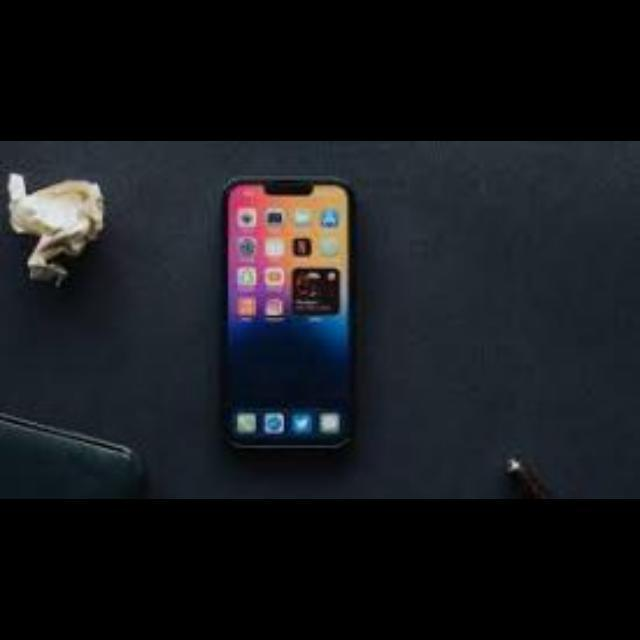phone: (177, 158, 383, 468)
